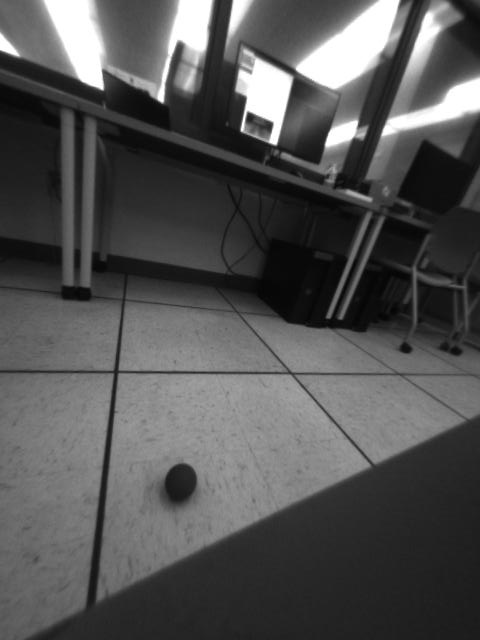dogtoy: (156, 450, 208, 509)
